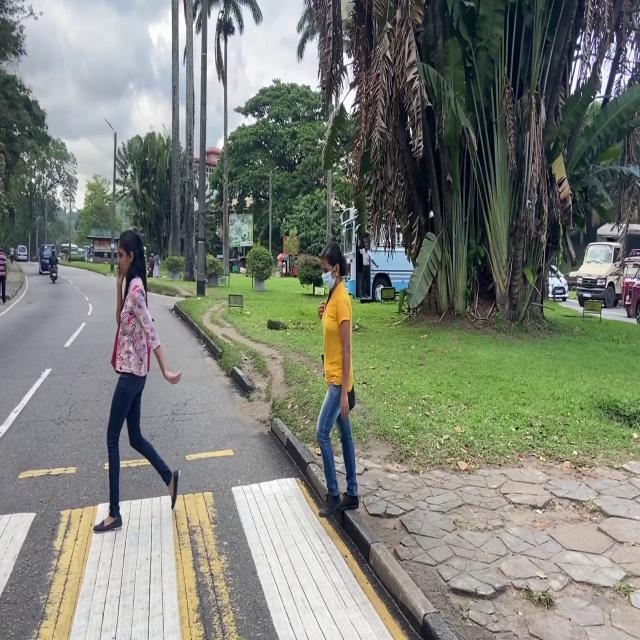bus: (341, 207, 413, 300)
car: (549, 271, 568, 302)
motorcycle: (49, 264, 57, 283), (148, 265, 153, 277)
person: (95, 230, 181, 532), (317, 244, 358, 514), (360, 240, 377, 300), (0, 247, 7, 303), (153, 254, 160, 278), (49, 249, 57, 267), (9, 247, 14, 263), (149, 252, 154, 267)
three wheeler: (622, 257, 640, 318)
truck: (577, 223, 640, 308)
van: (39, 244, 55, 274), (17, 245, 27, 261)
